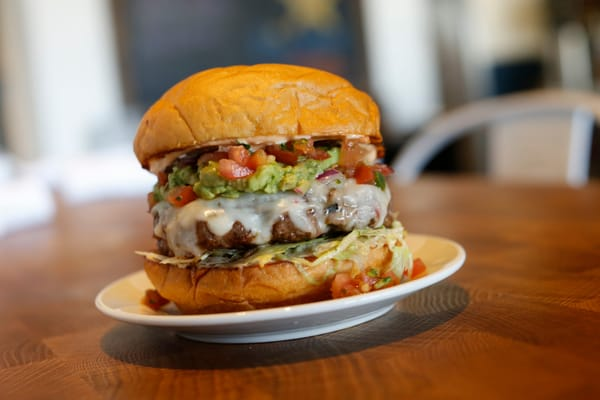soup: (131, 62, 414, 316)
